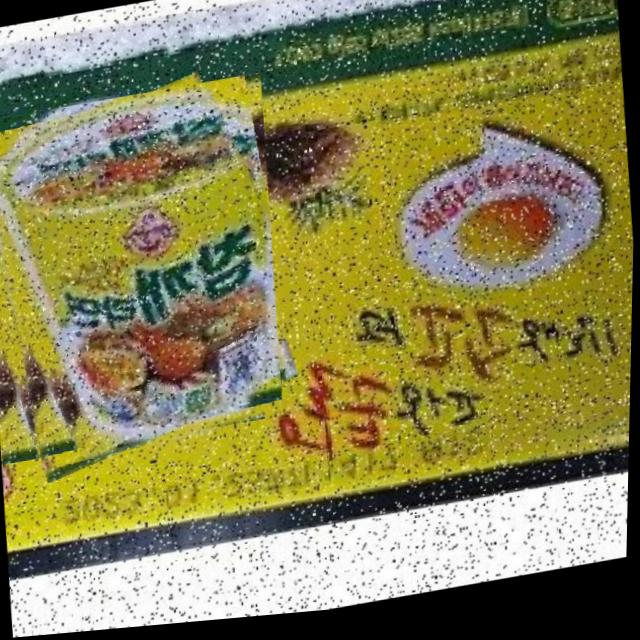Miscellaneous: (0, 75, 291, 478)
